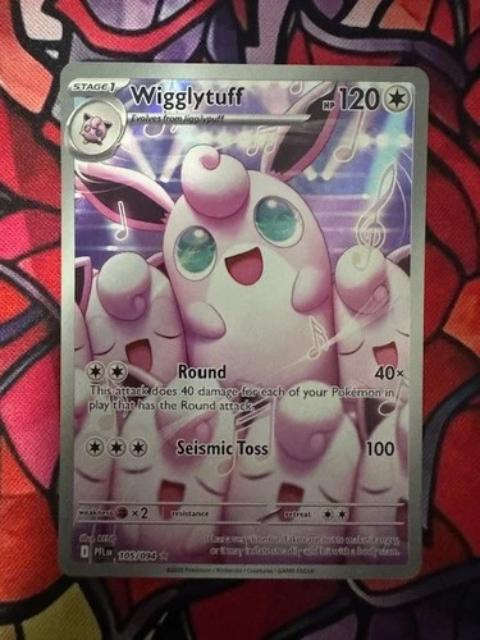Card: (51, 55, 430, 584)
Name: (124, 81, 247, 111)
